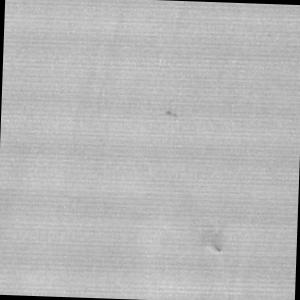Damage: (198, 211, 239, 269)
Stain: (163, 107, 180, 123)
